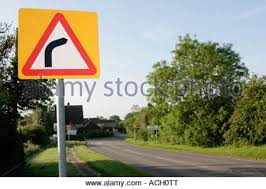Bend_to_right: (20, 11, 97, 77)
